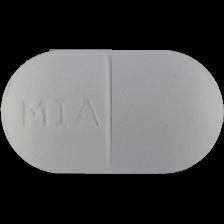61919-022: (0, 0, 224, 224)
